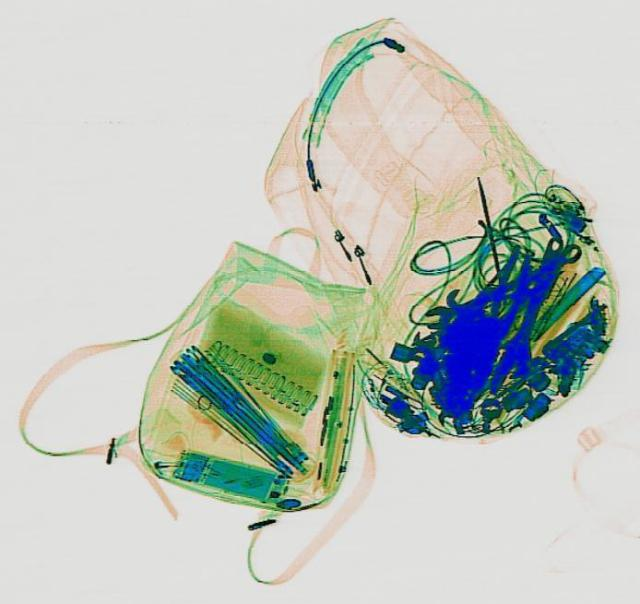Wrench: (418, 240, 586, 330), (484, 231, 572, 395)
